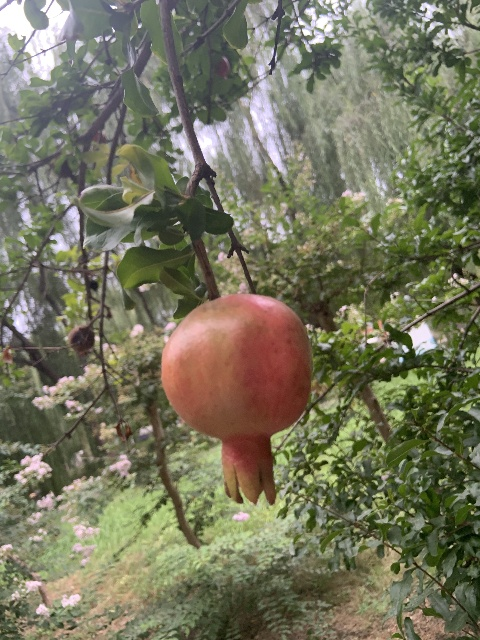ripe: (160, 294, 312, 506)
